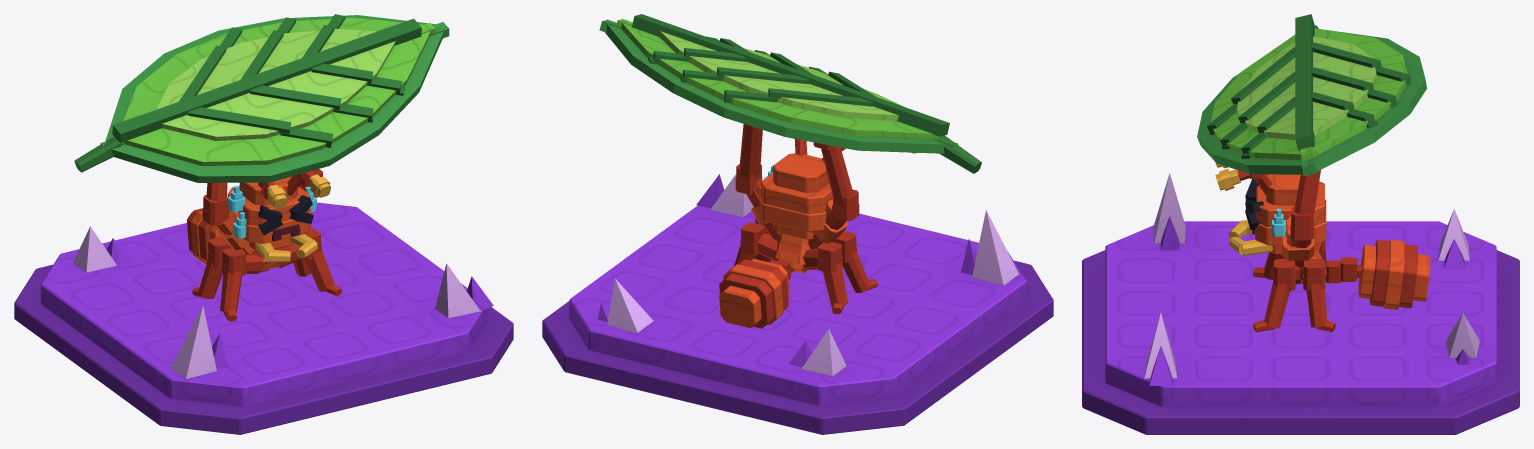
Rendered from AntStrongman.fbx.
3 views of the same model, side by side, from view 1: azimuth 30°, elevation 25°; view 2: azimuth 150°, elevation 25°; view 3: azimuth 270°, elevation 25° (orthographic). The views are drawn at different scales.
Visible parts, largest first — view 1: Art_AntStrongman_Stand, Art_AntStrongman_Leaf, Art_AntStrongman_Head, Art_AntStrongman_Body, Art_AntStrongman_ArmR; view 2: Art_AntStrongman_Stand, Art_AntStrongman_Leaf, Art_AntStrongman_Body, Art_AntStrongman_Head, Art_AntStrongman_ArmR, Art_AntStrongman_ArmL; view 3: Art_AntStrongman_Stand, Art_AntStrongman_Leaf, Art_AntStrongman_Body, Art_AntStrongman_Head, Art_AntStrongman_ArmL.
Part boxes in pixels (bbox=[...]): Art_AntStrongman_Stand: bbox=[14, 202, 513, 434]; Art_AntStrongman_Leaf: bbox=[74, 14, 449, 182]; Art_AntStrongman_Head: bbox=[227, 170, 331, 262]; Art_AntStrongman_Body: bbox=[187, 208, 341, 321]; Art_AntStrongman_ArmR: bbox=[202, 182, 256, 254]; Art_AntStrongman_Stand: bbox=[542, 174, 1053, 434]; Art_AntStrongman_Leaf: bbox=[599, 14, 981, 173]; Art_AntStrongman_Body: bbox=[719, 218, 877, 328]; Art_AntStrongman_Head: bbox=[759, 138, 845, 239]; Art_AntStrongman_ArmR: bbox=[808, 142, 859, 248]; Art_AntStrongman_ArmL: bbox=[735, 124, 780, 240]; Art_AntStrongman_Stand: bbox=[1082, 173, 1519, 434]; Art_AntStrongman_Leaf: bbox=[1197, 14, 1426, 175]; Art_AntStrongman_Body: bbox=[1253, 239, 1430, 332]; Art_AntStrongman_Head: bbox=[1215, 162, 1326, 255]; Art_AntStrongman_ArmL: bbox=[1282, 170, 1320, 267].
Bounding box in the file's own units: 3.54 × 2.47 × 3.4.
